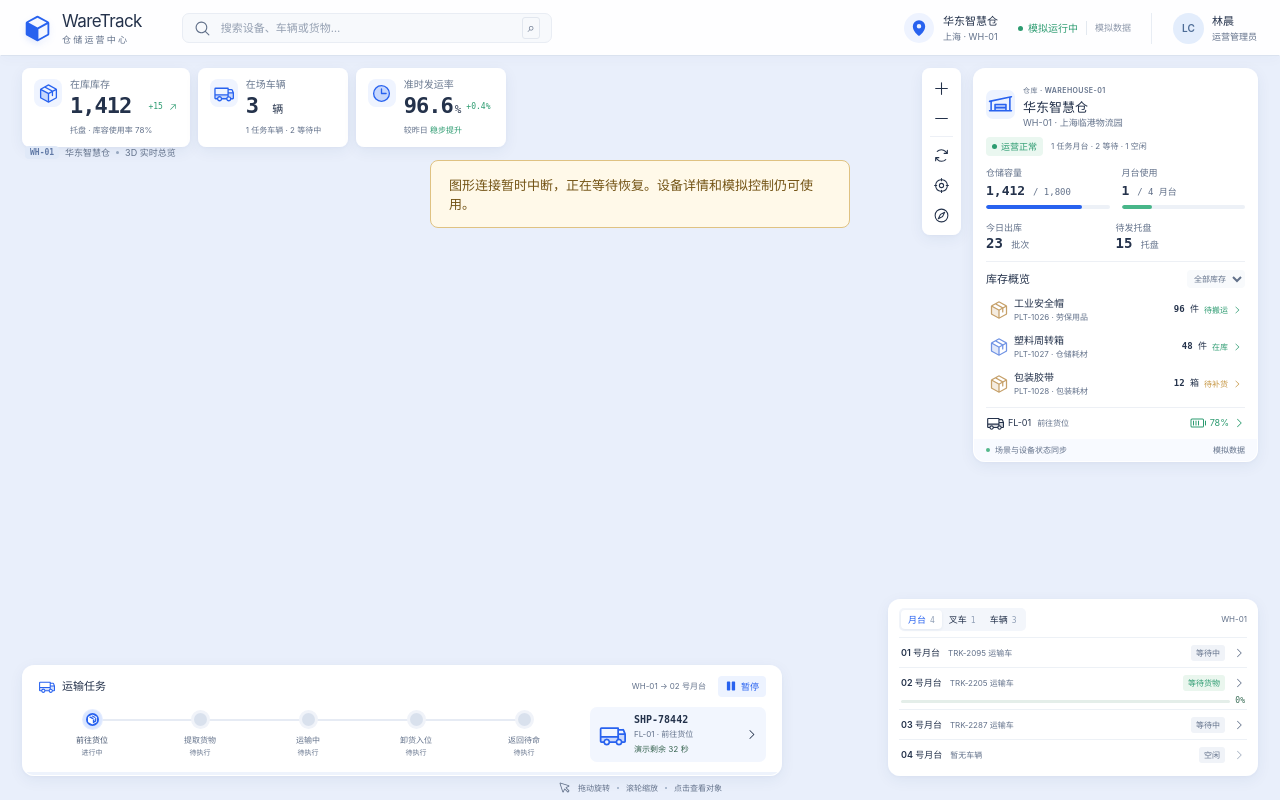
Test: shows recoverable context loss without disabling the dashboard
The width and height of the screenshot is (1280, 800).
Expected: the message shows "图形连接暂时中断", [449,177,813,212]
What coordinates should you click on to do the following:
click the button with aria-label "暂停模拟"
I would click on:
 (742, 686)
Its box is [718,676,766,697].
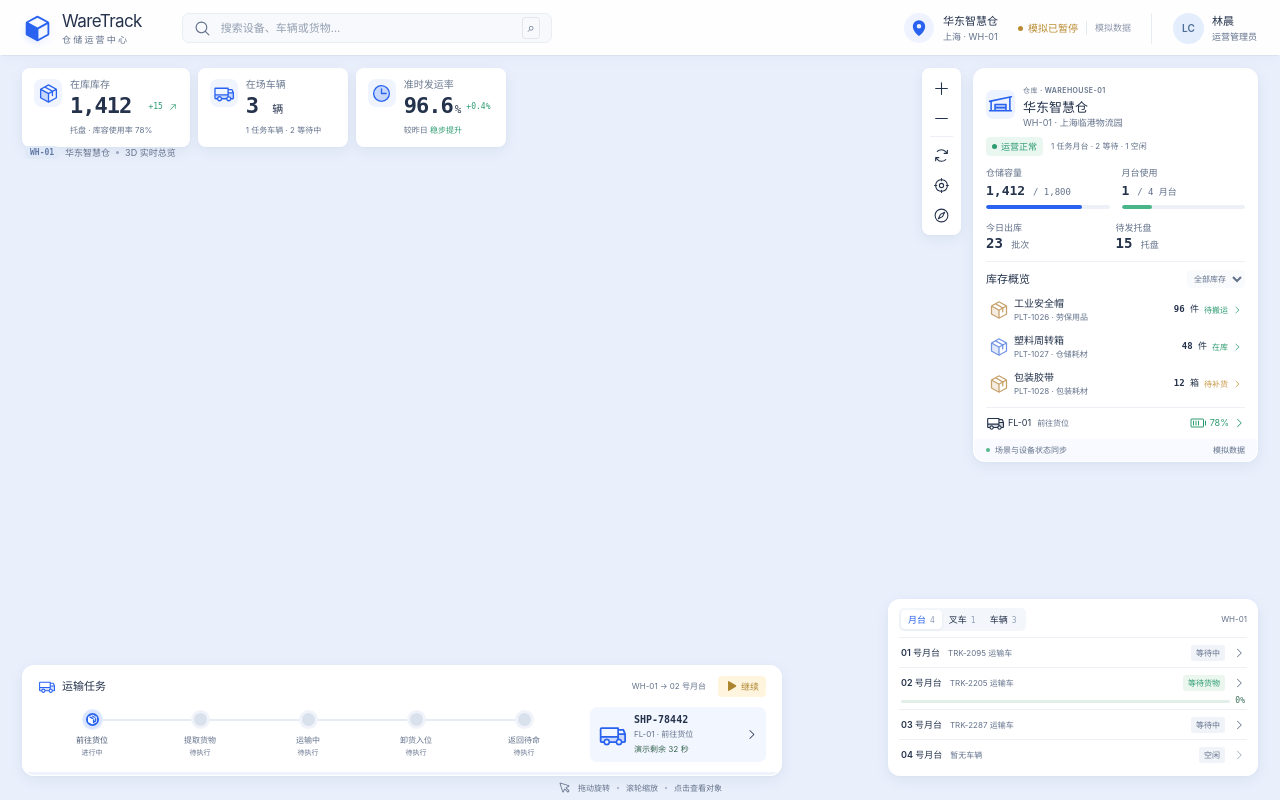
Expected: the button with aria-label "继续模拟" is shown, [718,676,766,697]
Expected: the message "图形连接暂时中断，正在等待恢复。设备详情和模拟控制仍可使用。" is gone
